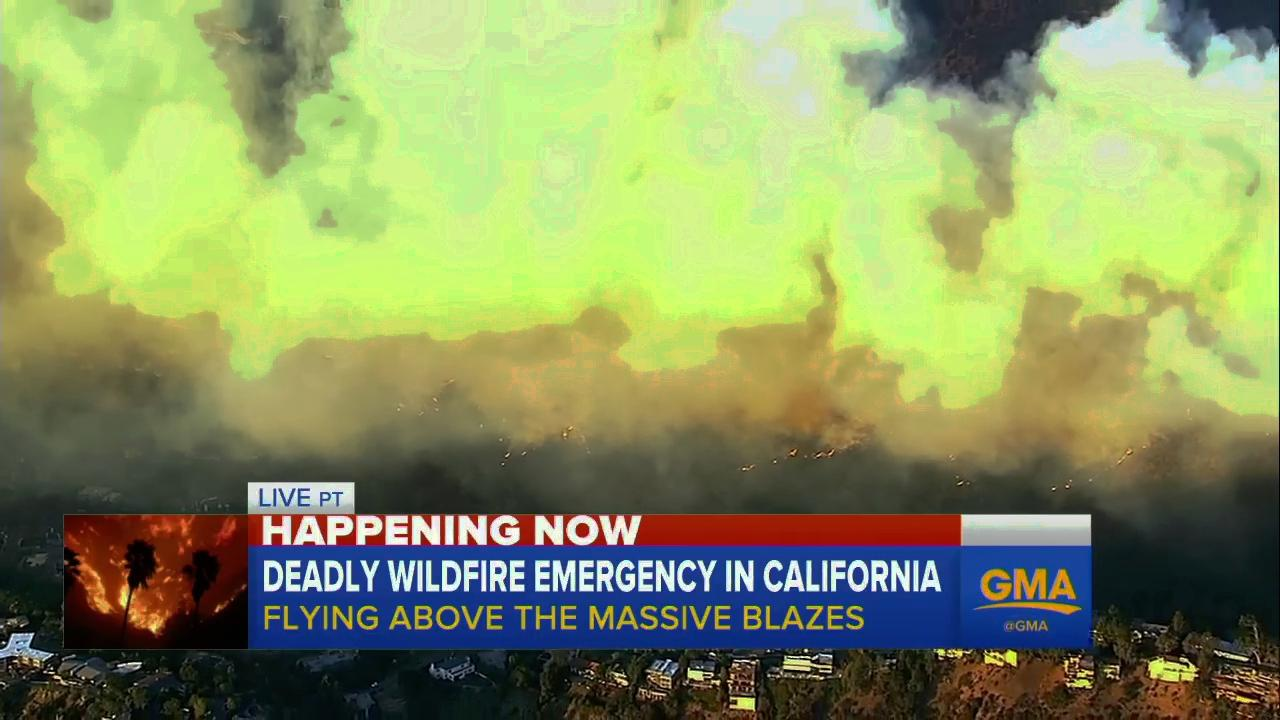smoke: (1, 4, 1280, 479)
